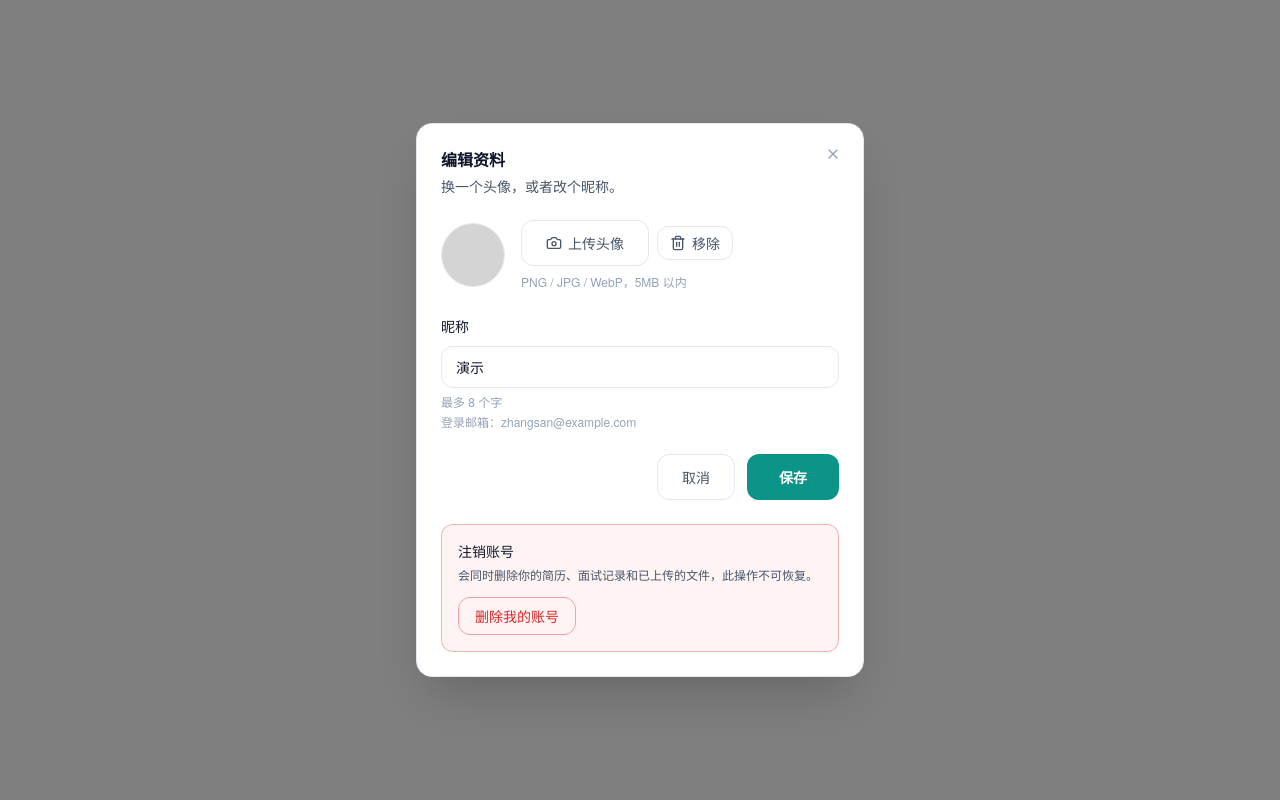
Scenario: ProfileDialog › requires a second click before deleting the account
Click the button "删除我的账号" at (517, 616), box [458,597,576,635]
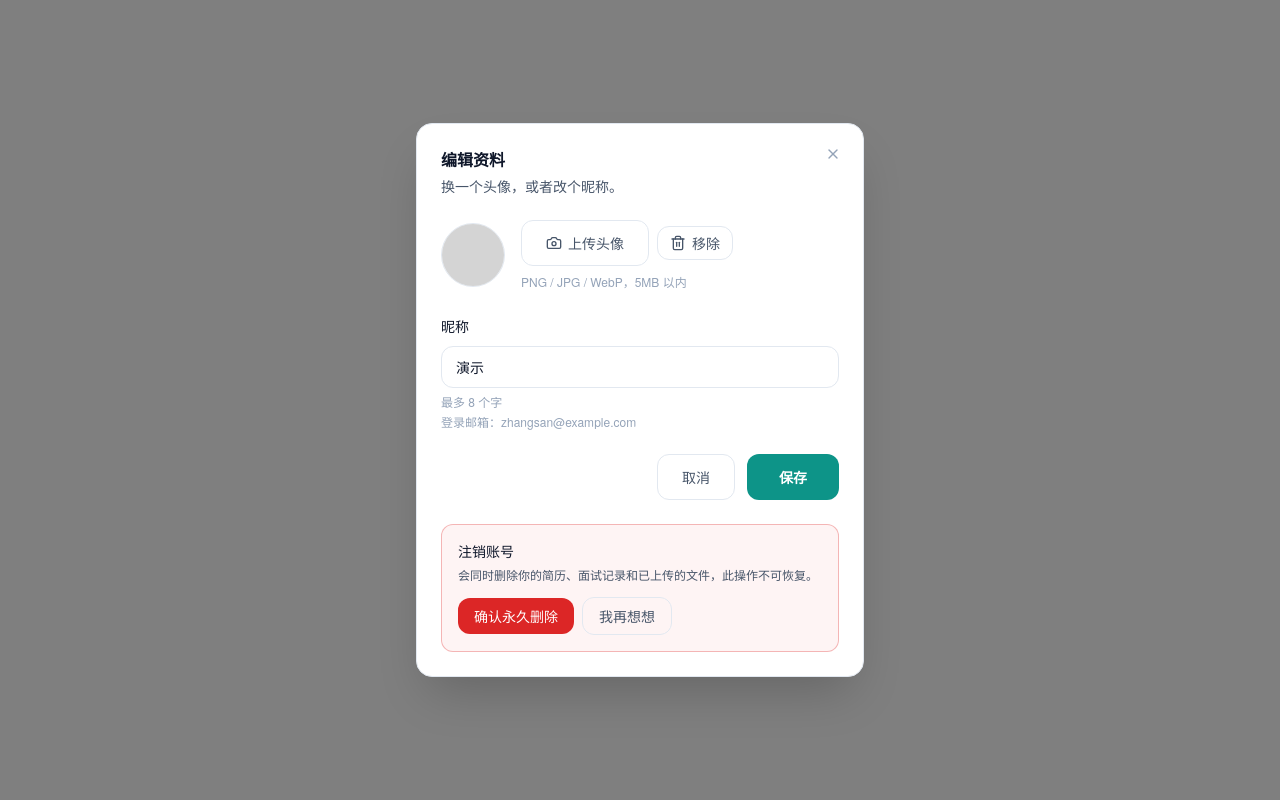
Check: the button "确认永久删除" is shown, box [458,598,574,634]
